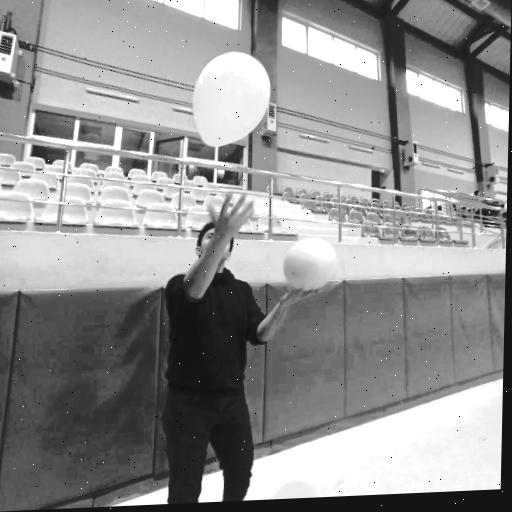balloon: (194, 49, 270, 148), (279, 234, 341, 289)
